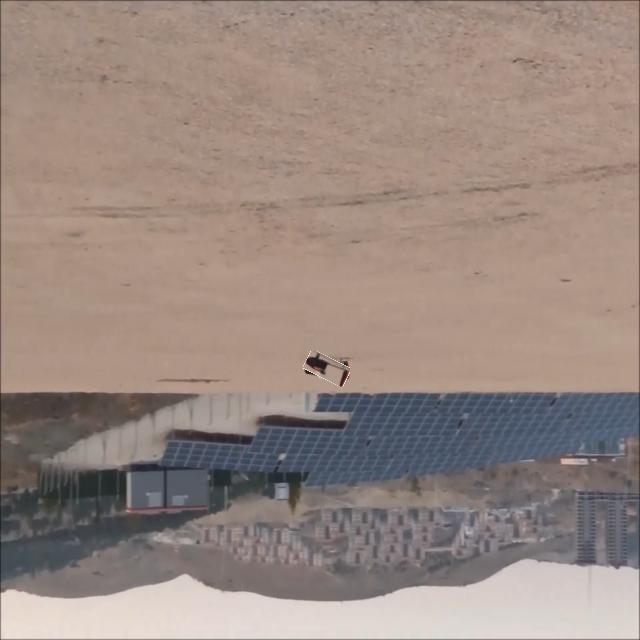iha: (292, 352, 348, 388)
